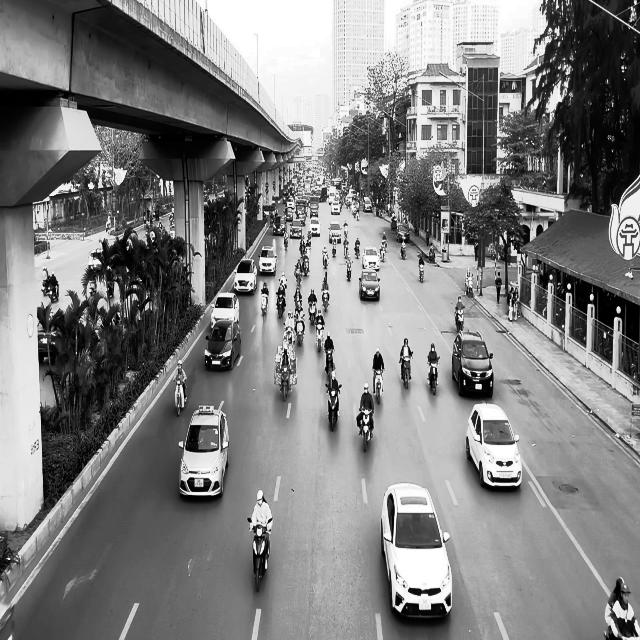car: (380, 482, 452, 620), (178, 402, 230, 498), (466, 402, 522, 490), (452, 329, 494, 398), (204, 319, 242, 370), (211, 292, 240, 331), (234, 258, 258, 294), (358, 269, 381, 300), (258, 246, 278, 274), (362, 246, 380, 271), (88, 248, 103, 273), (328, 221, 342, 244), (396, 223, 410, 242)
motorbike: (248, 517, 273, 592), (326, 382, 342, 432), (357, 407, 374, 452), (174, 376, 187, 416), (428, 356, 440, 395), (400, 354, 413, 390), (280, 365, 291, 401), (373, 369, 384, 404), (325, 348, 335, 376), (454, 306, 464, 332), (316, 321, 324, 353), (277, 290, 286, 318), (49, 280, 59, 302), (261, 290, 269, 316), (346, 256, 353, 281), (418, 262, 424, 282), (428, 248, 436, 262), (401, 244, 406, 260)
